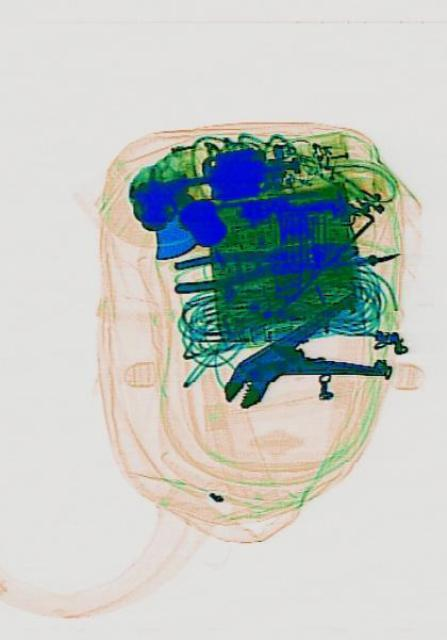Pliers: (212, 282, 389, 442), (169, 230, 356, 292)
